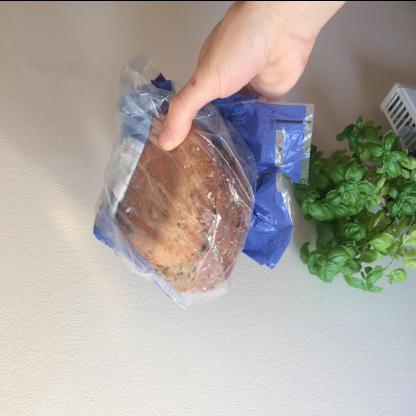diger: (88, 57, 315, 312)
